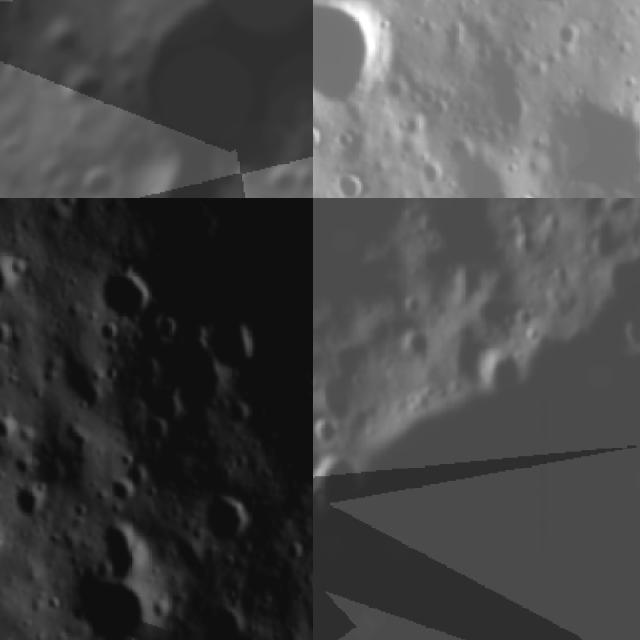crater: (77, 0, 313, 198), (542, 94, 640, 198), (313, 0, 394, 117), (151, 333, 231, 420), (58, 572, 160, 640), (43, 58, 112, 130), (88, 519, 166, 582), (206, 314, 259, 380), (197, 490, 257, 548), (98, 263, 156, 319), (59, 151, 128, 198), (29, 11, 83, 67), (313, 456, 357, 514), (250, 152, 302, 198), (476, 351, 522, 395), (71, 377, 108, 419), (10, 485, 50, 522), (104, 471, 140, 507), (136, 412, 170, 447), (124, 460, 156, 496), (0, 251, 22, 302), (334, 167, 369, 198), (220, 400, 253, 430), (551, 20, 582, 46), (401, 332, 429, 359), (0, 415, 26, 444), (623, 314, 640, 351), (313, 421, 344, 441), (159, 316, 177, 342), (0, 318, 12, 351), (399, 294, 420, 312)
